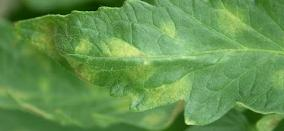Tomato mold leaf: (11, 0, 284, 131)
